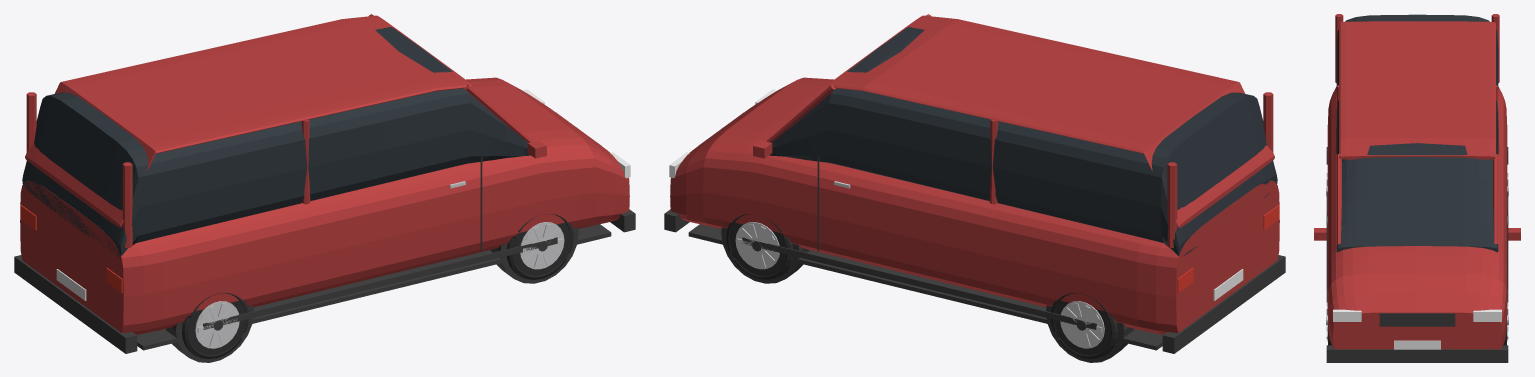
The model's file is SM_Car_Van.fbx.
The picture shows the model from 3 angles, left to right: view 1: azimuth 30°, elevation 25°; view 2: azimuth 150°, elevation 25°; view 3: azimuth 270°, elevation 25°; orthographic projection. The views are drawn at different scales.
Parts seen in each view (by area): view 1: SM_Car_Van; view 2: SM_Car_Van; view 3: SM_Car_Van.
Boxes of the visible parts, box(x1,y1,x2,y2) form: SM_Car_Van: box(14, 14, 635, 362); SM_Car_Van: box(664, 14, 1285, 362); SM_Car_Van: box(1314, 14, 1520, 362).
Size of the model in its own units: 2.3 by 5.34 by 2.21.
